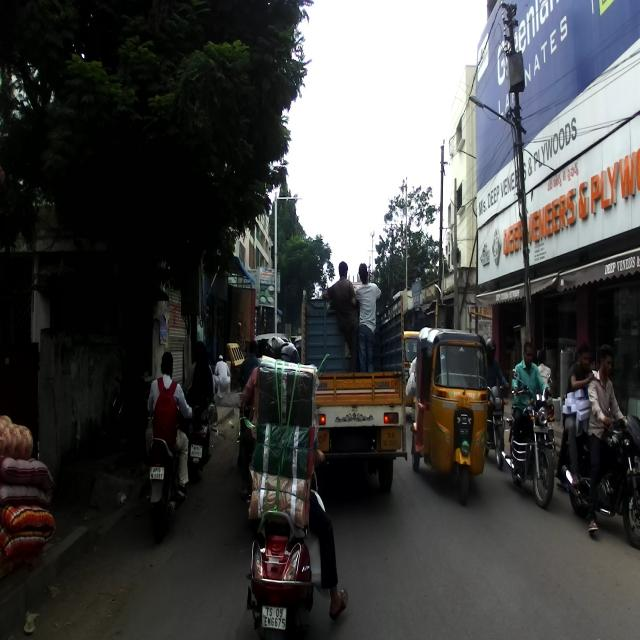autorickshaw: (410, 327, 493, 504)
motorcycle_Hero: (143, 404, 195, 544)
motorcycle_RoyalEnfield: (501, 368, 556, 508)
motorcycle_bajaj: (560, 414, 640, 548)
scooter: (244, 442, 329, 639), (185, 384, 213, 482)
truck: (300, 286, 406, 476)
